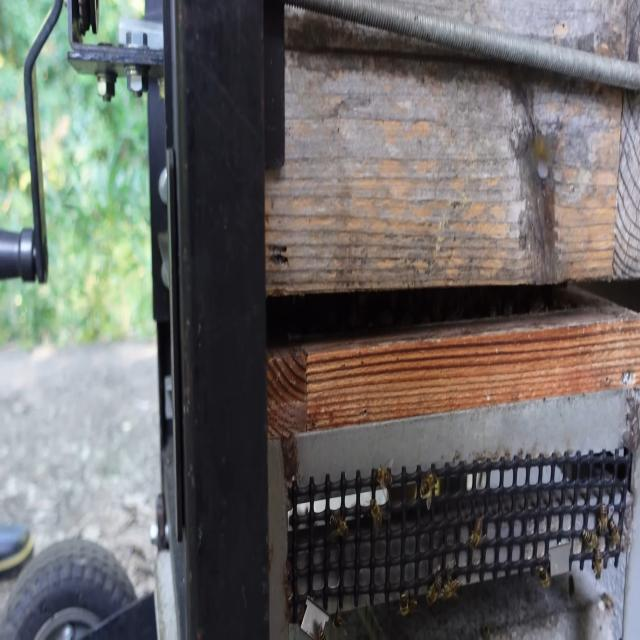Bees: (366, 459, 394, 500), (418, 468, 442, 510), (364, 492, 383, 540), (466, 514, 486, 550), (596, 498, 614, 536), (327, 511, 349, 541), (592, 547, 607, 589), (442, 576, 461, 608), (424, 573, 442, 606), (397, 589, 412, 619), (537, 561, 552, 591), (580, 526, 598, 550)
